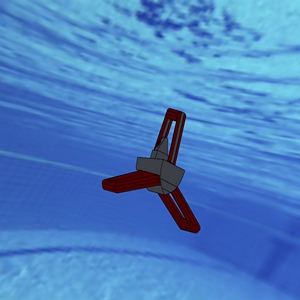submarine: (78, 77, 233, 247)
